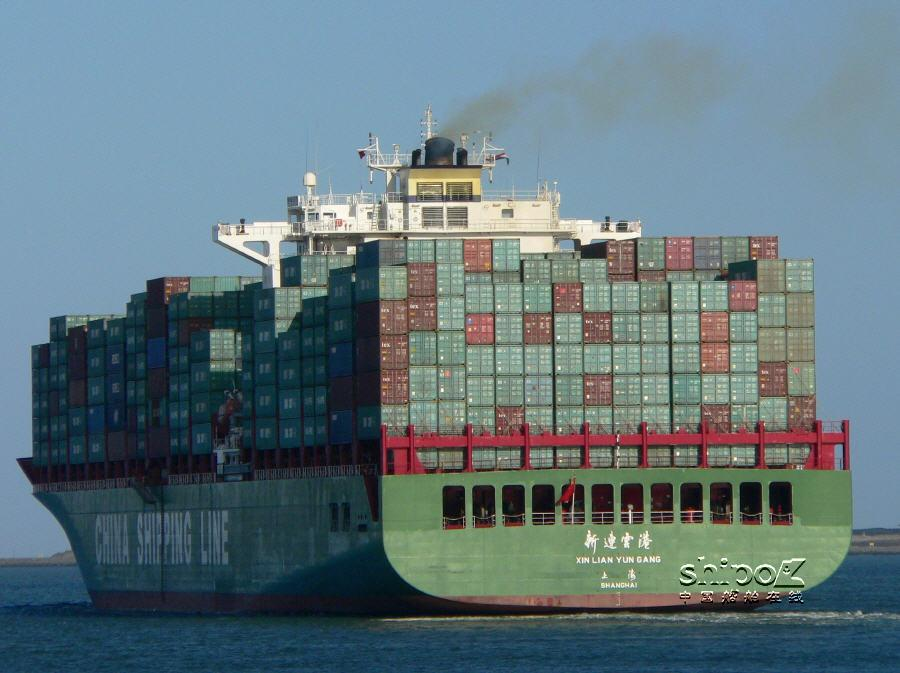Cargoship: (15, 114, 860, 619)
